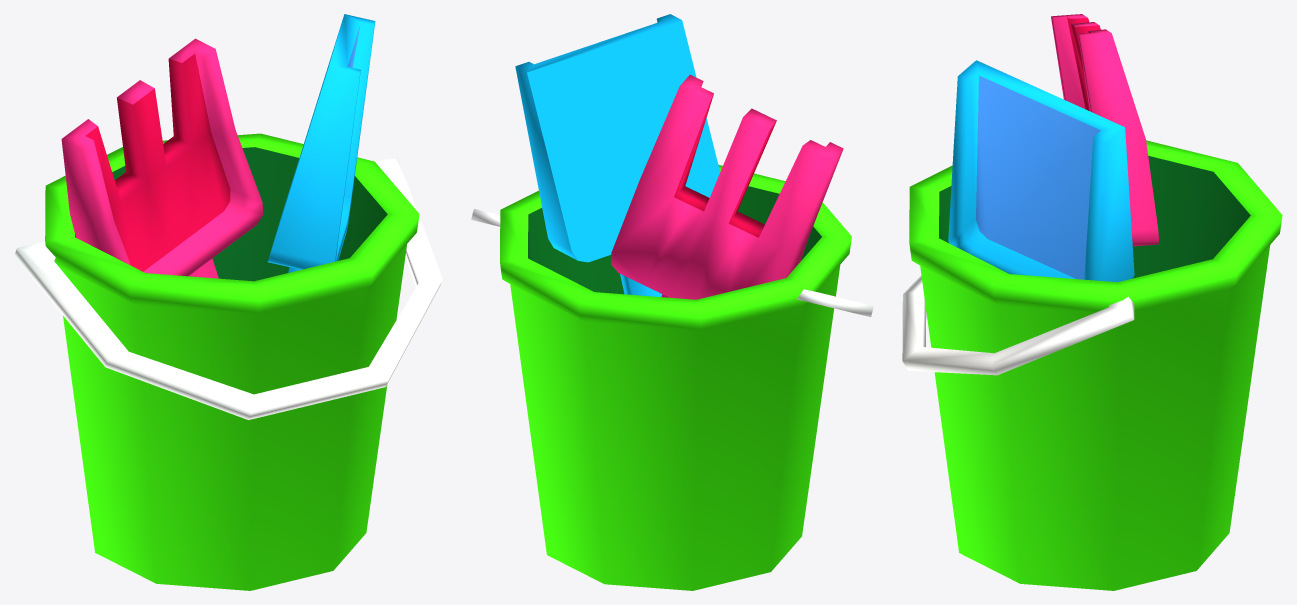
Rendered from BeachToyBucketGreenToys.glb.
3 views of the same model, side by side, from view 1: azimuth 30°, elevation 25°; view 2: azimuth 150°, elevation 25°; view 3: azimuth 270°, elevation 25° (orthographic). The views are drawn at different scales.
Visible parts, largest first — view 1: BeachToyBucketGreenToys; view 2: BeachToyBucketGreenToys; view 3: BeachToyBucketGreenToys.
Boxes of the visible parts, box(x1,y1,x2,y2) form: BeachToyBucketGreenToys: box(14, 14, 442, 590); BeachToyBucketGreenToys: box(471, 14, 873, 590); BeachToyBucketGreenToys: box(902, 14, 1282, 590).
Size of the model in its own units: 0.4322 by 0.5399 by 0.3758.
Materials: 1 (1 with a texture image).
